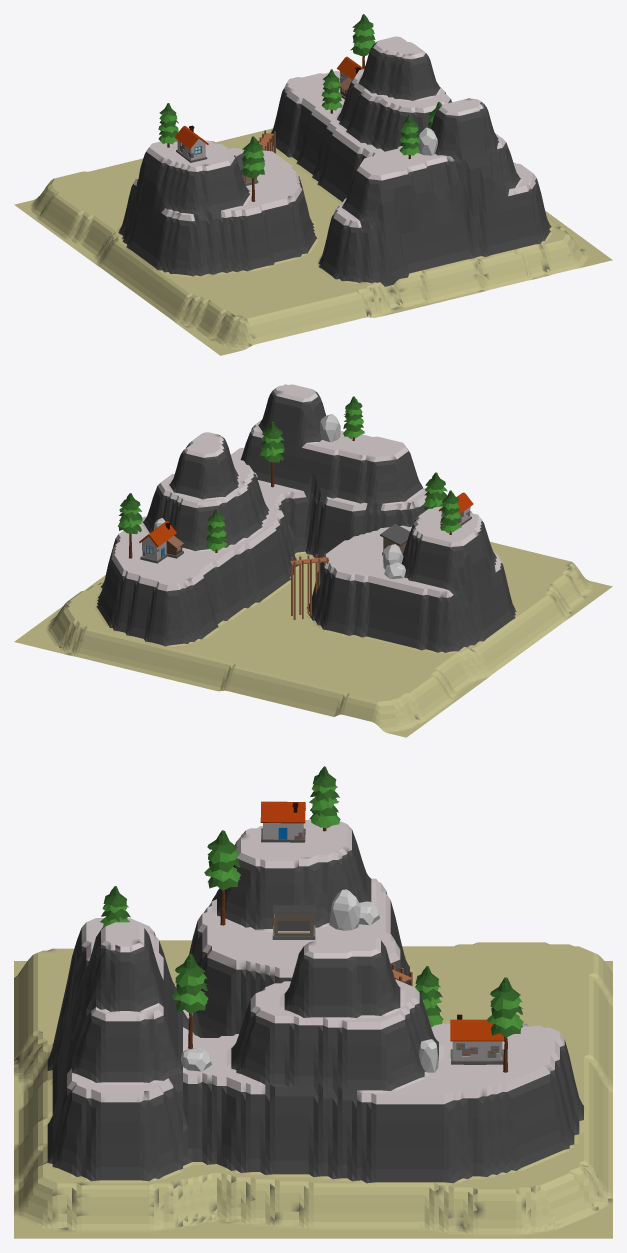
Rendered from NorthIsland.fbx.
3 views of the same model, one above another, from view 1: azimuth 30°, elevation 25°; view 2: azimuth 150°, elevation 25°; view 3: azimuth 270°, elevation 25° (orthographic). The views are drawn at different scales.
Parts seen in each view (by area): view 1: Plane.004; view 2: Plane.004; view 3: Plane.004.
Boxes of the visible parts, x1,y1,x2,y2 form: Plane.004: (14, 14, 612, 355); Plane.004: (14, 384, 612, 737); Plane.004: (14, 766, 612, 1238).
Bounding box in the file's own units: 10625 × 4170 × 9688.
